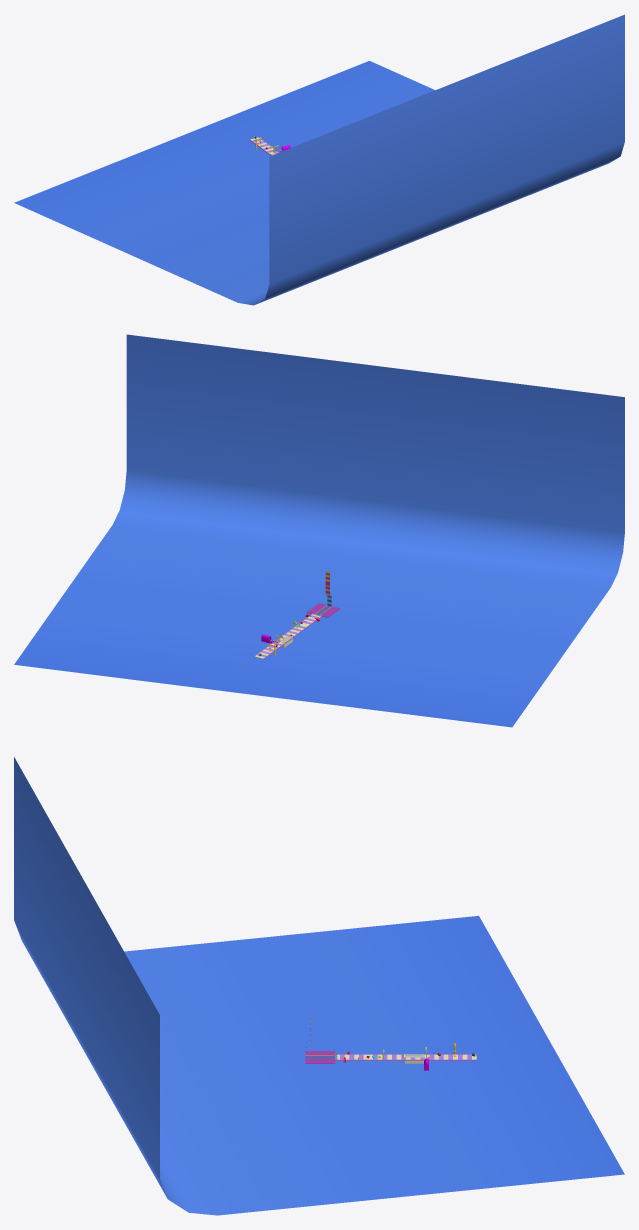
File: FUL SEHNE.fbx
3 views of the same model, one above another, from view 1: azimuth 30°, elevation 25°; view 2: azimuth 150°, elevation 25°; view 3: azimuth 270°, elevation 25° (orthographic). The views are drawn at different scales.
Parts seen in each view (by area): view 1: Plane.003; view 2: Plane.003; view 3: Plane.003.
Boxes of the visible parts, box(x1,y1,x2,y2) form: Plane.003: box(14, 14, 624, 305); Plane.003: box(14, 334, 624, 727); Plane.003: box(14, 757, 624, 1215).
Size of the model in its own units: 22281 by 7012 by 18827.
